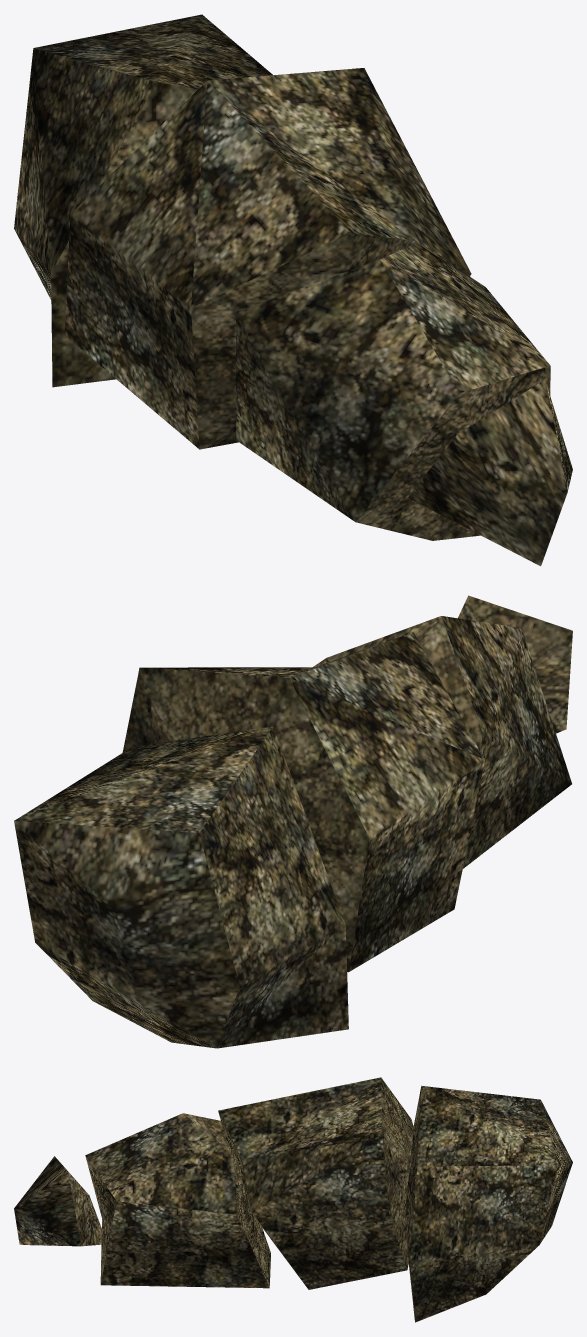
File: walk.glb
3 renders of one model, top to bottom at view 1: azimuth 30°, elevation 25°; view 2: azimuth 150°, elevation 25°; view 3: azimuth 270°, elevation 25°, orthographic. The views are drawn at different scales.
Parts seen in each view (by area): view 1: MeshRoot; view 2: MeshRoot; view 3: MeshRoot.
Part boxes in pixels (x1,y1,x2,y2): MeshRoot: [14, 14, 572, 566]; MeshRoot: [14, 595, 572, 1048]; MeshRoot: [14, 1077, 572, 1322].
Bounding box in the file's own units: 4.78 × 4.97 × 12.5.
Materials: 1 (1 with a texture image).
